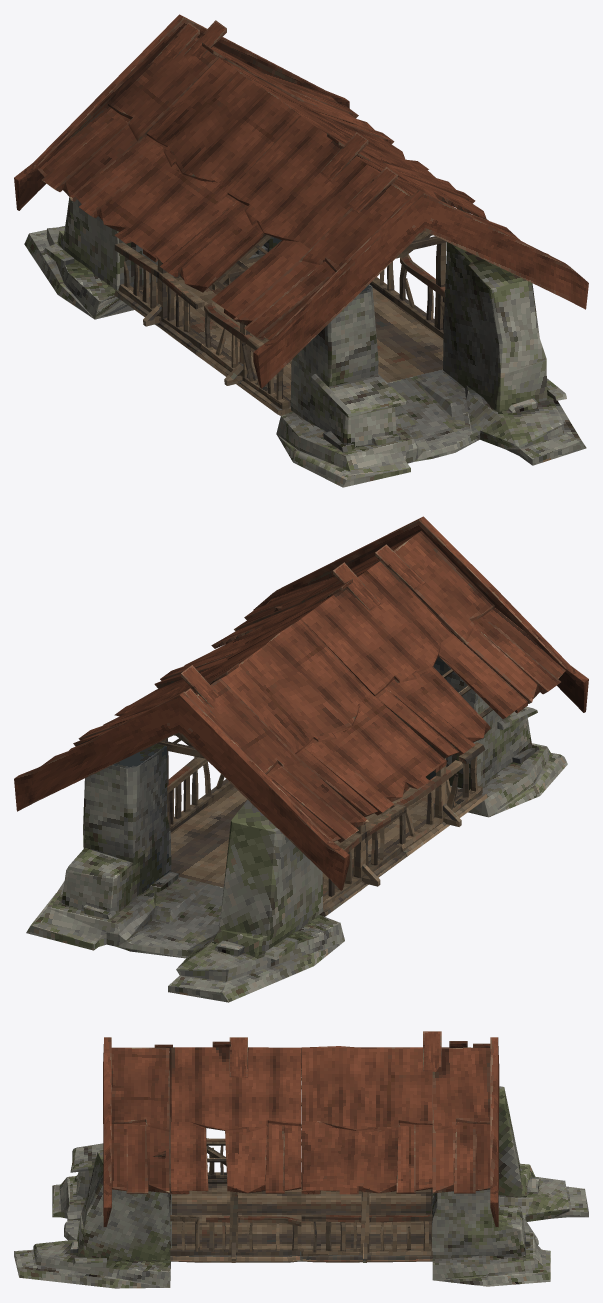
File: Covered_bridge_02.glb
3 renders of one model, top to bottom at view 1: azimuth 30°, elevation 25°; view 2: azimuth 150°, elevation 25°; view 3: azimuth 270°, elevation 25°, orthographic. The views are drawn at different scales.
Visible parts, largest first — view 1: Covered_bridge_02; view 2: Covered_bridge_02; view 3: Covered_bridge_02.
Part boxes in pixels (x1=…): Covered_bridge_02: x1=14, y1=14, x2=588, y2=487; Covered_bridge_02: x1=14, y1=516, x2=588, y2=1002; Covered_bridge_02: x1=14, y1=1031, x2=588, y2=1288.
Bounding box in the file's own units: 20.98 × 15.07 × 39.09.
Materials: 1 (1 with a texture image).
